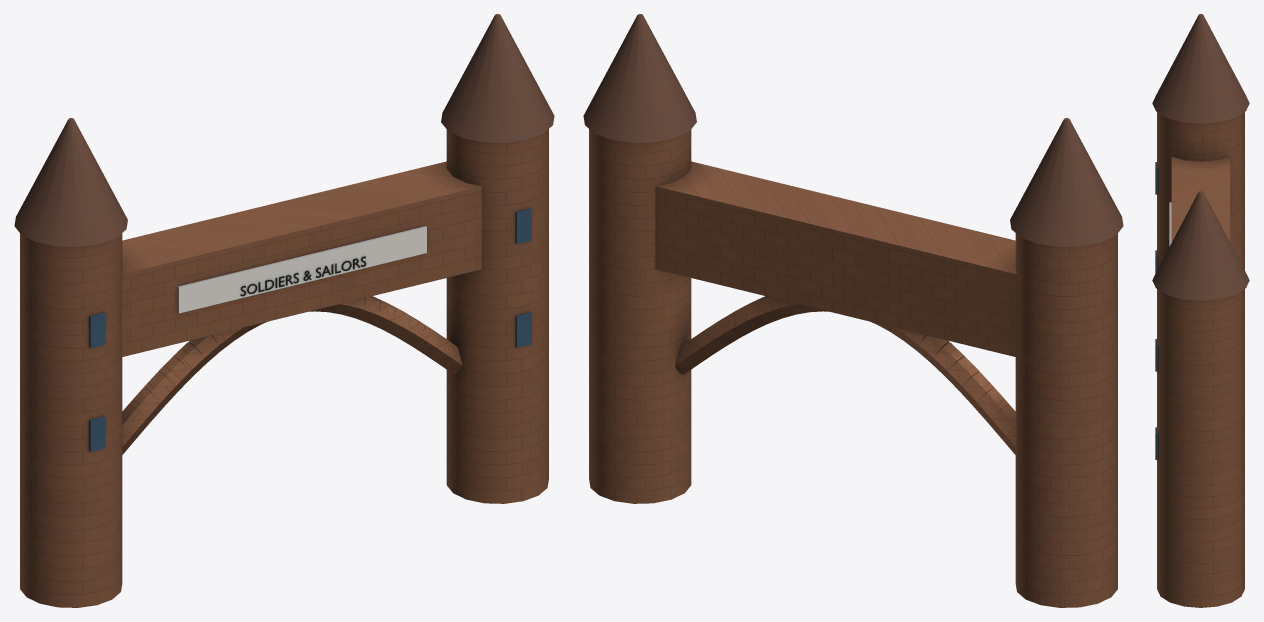
File: arco_soldados.glb
3 views of the same model, side by side, from view 1: azimuth 30°, elevation 25°; view 2: azimuth 150°, elevation 25°; view 3: azimuth 270°, elevation 25° (orthographic). The views are drawn at different scales.
Parts seen in each view (by area): view 1: arco_soldados; view 2: arco_soldados; view 3: arco_soldados.
Boxes of the visible parts, box(x1,y1,x2,y2) form: arco_soldados: box(14, 14, 554, 607); arco_soldados: box(583, 14, 1123, 607); arco_soldados: box(1152, 14, 1249, 607).
Size of the model in its own units: 21.2 by 18 by 4.
1 material, 1 textured.
